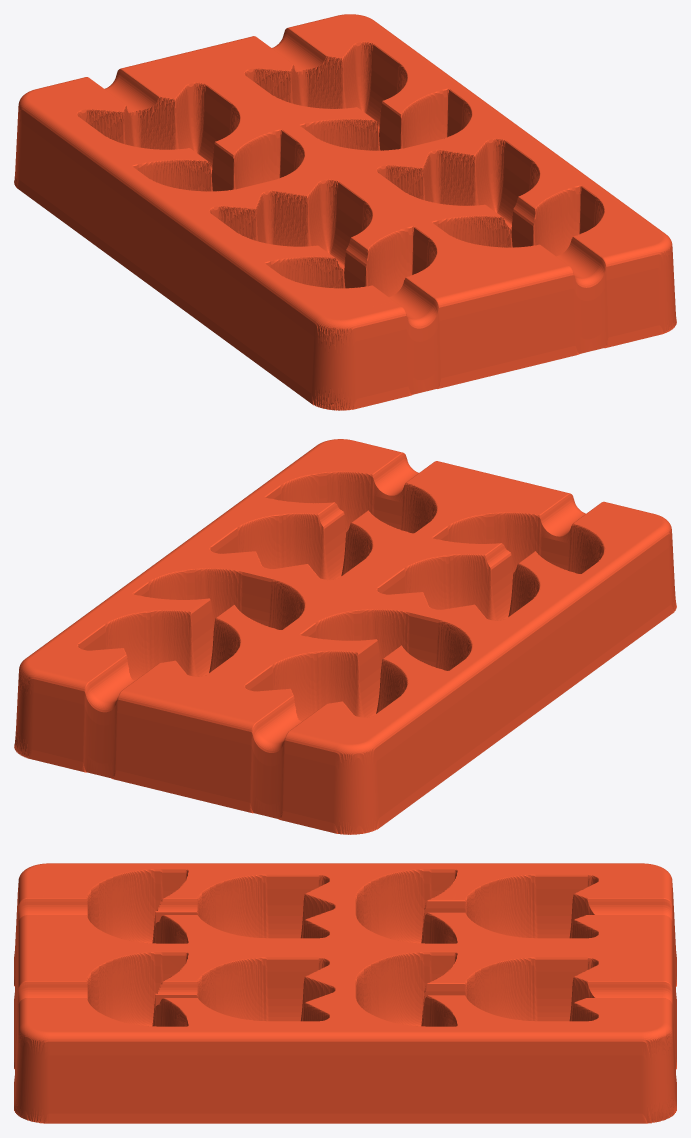
File: mold.glb
3 renders of one model, top to bottom at view 1: azimuth 30°, elevation 25°; view 2: azimuth 150°, elevation 25°; view 3: azimuth 270°, elevation 25°, orthographic.
Visible parts, largest first — view 1: geometry_0; view 2: geometry_0; view 3: geometry_0.
Boxes of the visible parts, left/top/right/bottom form: geometry_0: left=14, top=14, right=676, bottom=410; geometry_0: left=14, top=439, right=676, bottom=834; geometry_0: left=14, top=863, right=676, bottom=1123.
Bounding box in the file's own units: 0.1093 × 0.0245 × 0.171.
